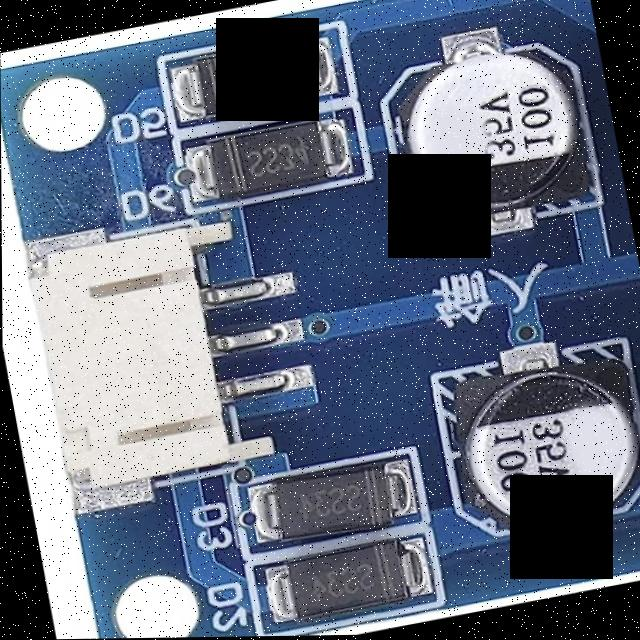capacitor 1V5: (377, 16, 613, 236), (437, 341, 640, 541)
connector -5v-: (28, 204, 299, 494)
diode -D1-: (237, 454, 409, 549), (249, 535, 421, 630), (167, 37, 330, 128), (184, 115, 346, 195)
